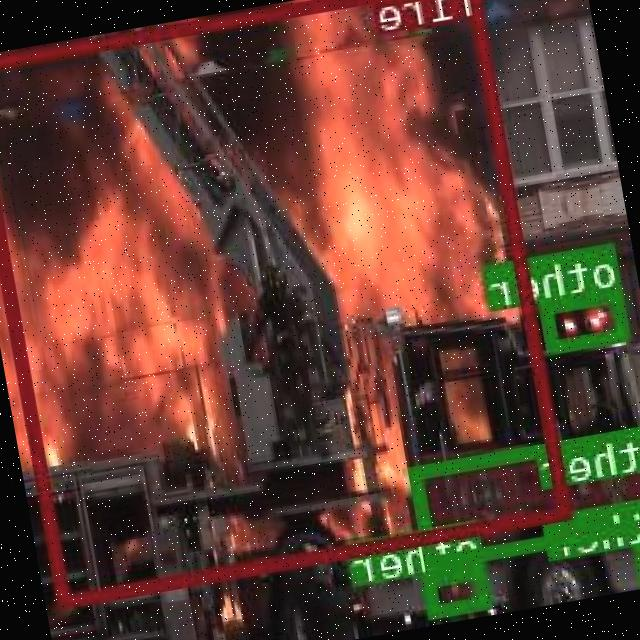fire: (0, 0, 573, 606)
